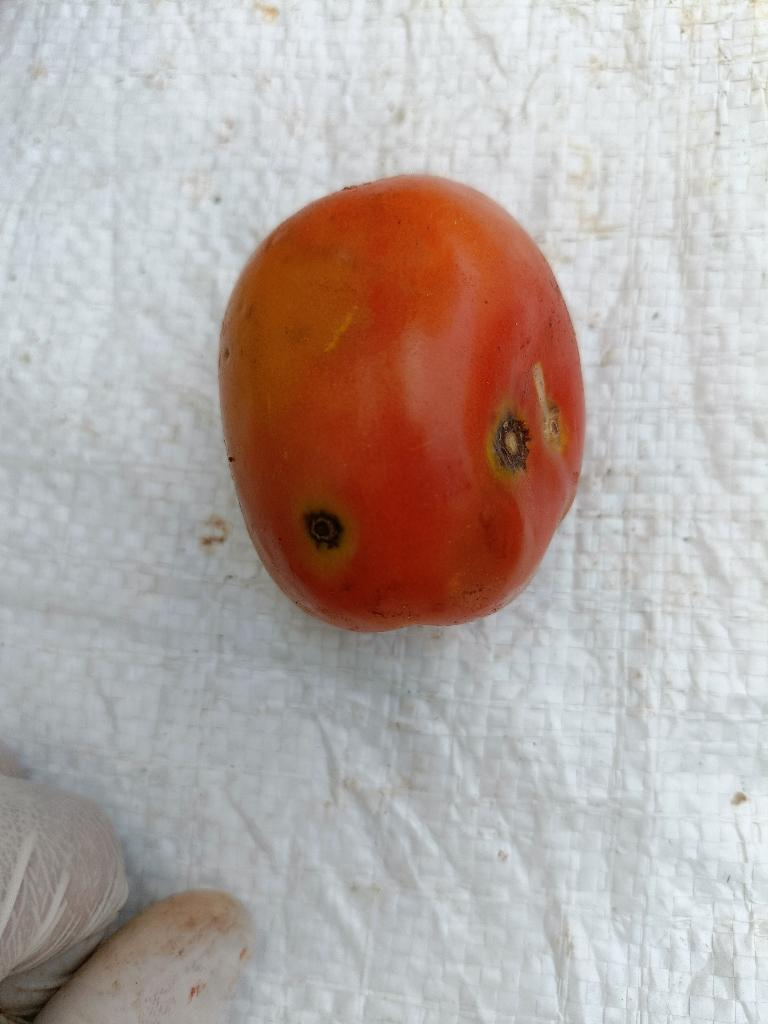rot_mold_decay: (305, 511, 343, 549)
surface_damage: (533, 363, 561, 449)
tomato: (218, 176, 584, 631)
